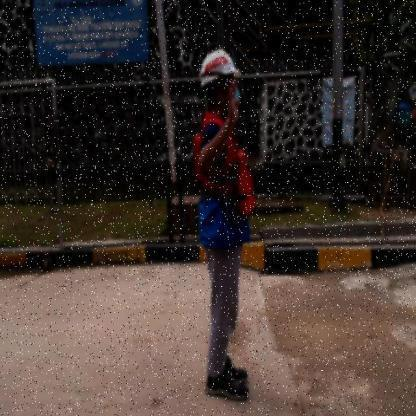boots: (204, 369, 249, 405), (224, 354, 249, 385)
helmet: (196, 46, 242, 86)
vest: (190, 131, 258, 221)
